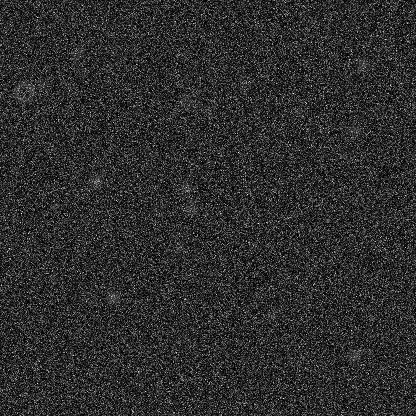Ring: (11, 79, 35, 103)
Spot: (179, 93, 195, 109), (200, 102, 216, 118), (264, 307, 280, 323), (346, 347, 362, 363), (178, 180, 194, 196), (35, 77, 51, 93), (183, 200, 199, 216), (171, 240, 187, 256), (88, 173, 104, 189), (290, 102, 306, 118), (71, 45, 87, 61), (346, 121, 362, 137), (236, 74, 252, 90), (355, 56, 371, 72), (105, 289, 121, 305)
